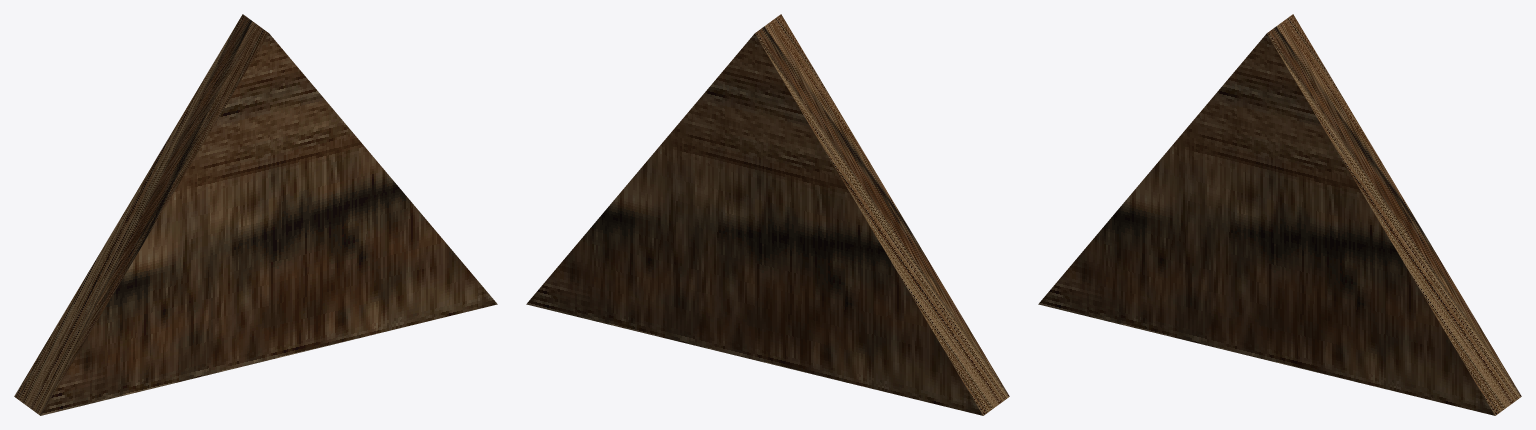
The model's file is tavern_triangular_wall.glb.
3 renders of one model, left to right at view 1: azimuth 30°, elevation 25°; view 2: azimuth 150°, elevation 25°; view 3: azimuth 330°, elevation 25°, orthographic.
Parts seen in each view (by area): view 1: tavern_triangular_wall; view 2: tavern_triangular_wall; view 3: tavern_triangular_wall.
Part boxes in pixels (x1=…): tavern_triangular_wall: x1=14, y1=14, x2=497, y2=415; tavern_triangular_wall: x1=526, y1=14, x2=1009, y2=415; tavern_triangular_wall: x1=1038, y1=14, x2=1521, y2=415.
Size of the model in its own units: 3 by 2.05 by 0.3001.
1 material, 1 textured.
